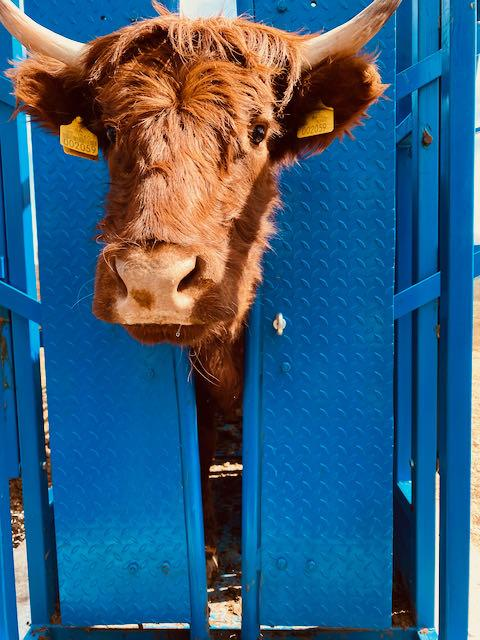muzzles: (83, 245, 238, 349)
